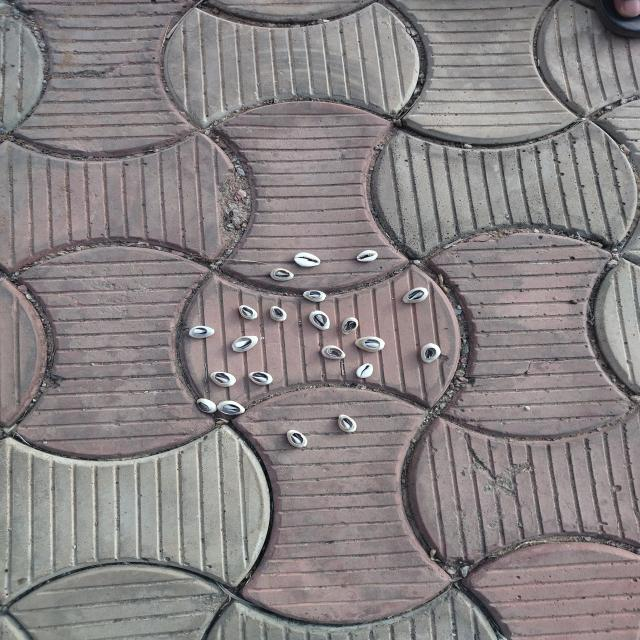facedown: (399, 285, 432, 305), (306, 308, 333, 332), (230, 334, 261, 354), (354, 335, 387, 353), (418, 342, 443, 364), (217, 398, 246, 416), (284, 429, 310, 449), (209, 370, 237, 388), (336, 413, 359, 434), (320, 344, 348, 361), (245, 371, 276, 386), (194, 396, 216, 416), (300, 288, 329, 303), (188, 325, 216, 340), (340, 316, 360, 337), (236, 303, 259, 321), (268, 268, 295, 282), (268, 305, 288, 323)
faceup: (292, 251, 324, 268), (354, 247, 381, 266), (353, 362, 377, 379)
